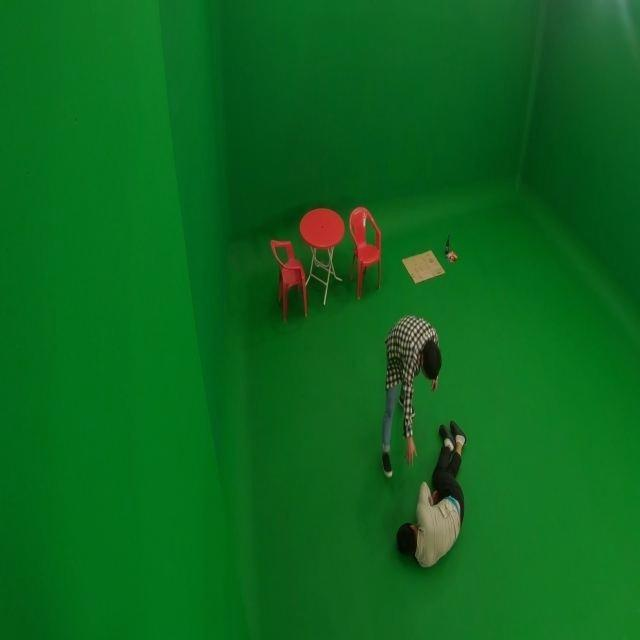fight: (380, 311, 472, 573)
